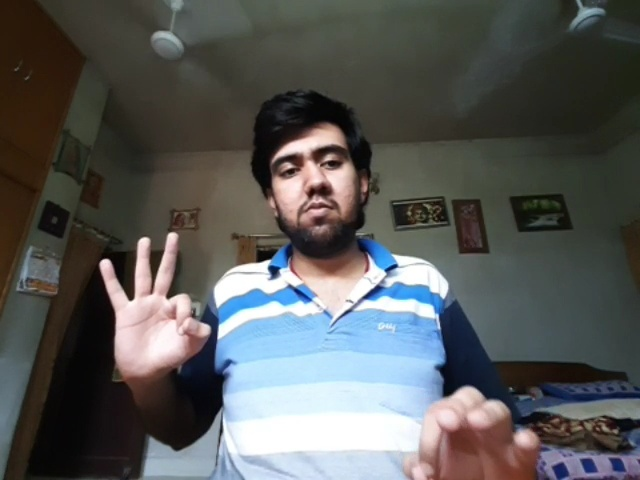Nice: (99, 231, 212, 376)
